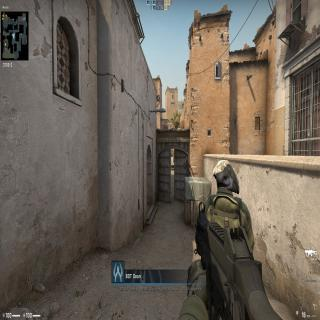CT-Head: (211, 156, 240, 196)
